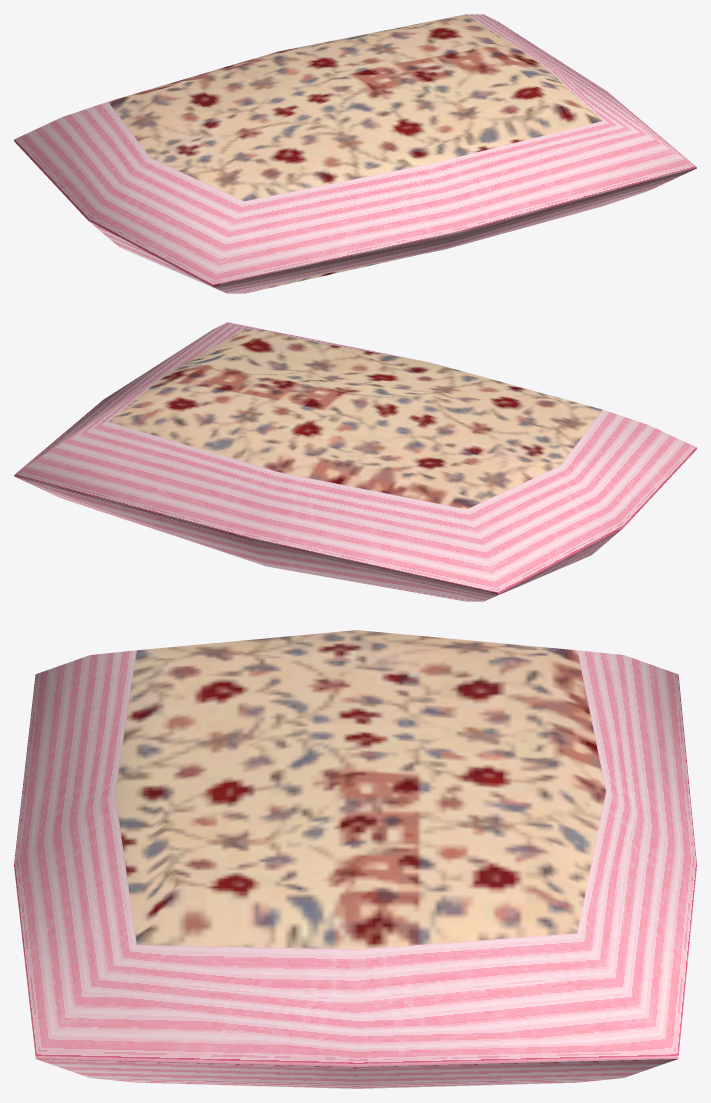
3 views of the same model, one above another, from view 1: azimuth 30°, elevation 25°; view 2: azimuth 150°, elevation 25°; view 3: azimuth 270°, elevation 25° (orthographic). The views are drawn at different scales.
Visible parts, largest first — view 1: Joint_0_Object_1, Joint_0_Object_0; view 2: Joint_0_Object_1, Joint_0_Object_0; view 3: Joint_0_Object_1, Joint_0_Object_0.
Boxes of the visible parts, x1,y1,x2,y2 form: Joint_0_Object_1: (14, 14, 696, 293); Joint_0_Object_0: (108, 14, 602, 292); Joint_0_Object_1: (14, 322, 696, 601); Joint_0_Object_0: (108, 329, 602, 509); Joint_0_Object_1: (14, 650, 696, 1088); Joint_0_Object_0: (115, 630, 605, 949).
Size of the model in its own units: 1270 by 284 by 893.
2 materials, 2 textured.
